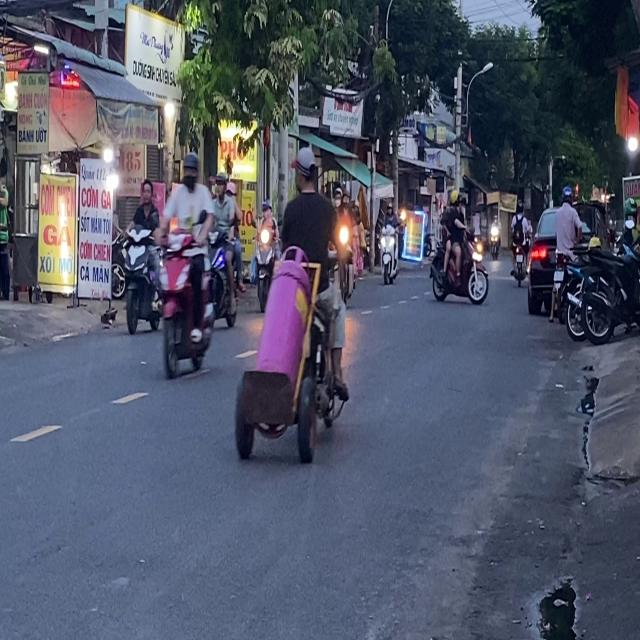helmet: (181, 151, 199, 184), (215, 170, 227, 197)
licenseplate: (245, 144, 352, 462), (154, 148, 217, 381), (121, 178, 163, 335), (206, 168, 244, 327)
motorcyclist: (293, 146, 318, 191), (140, 178, 152, 204)
